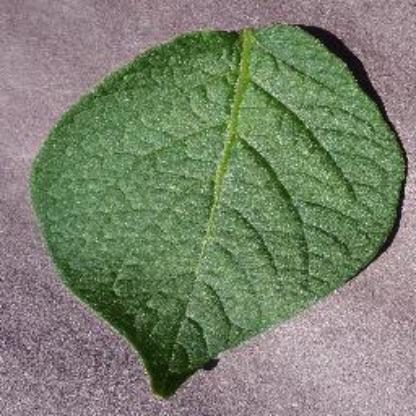Healthy-plant: (27, 19, 408, 398)
